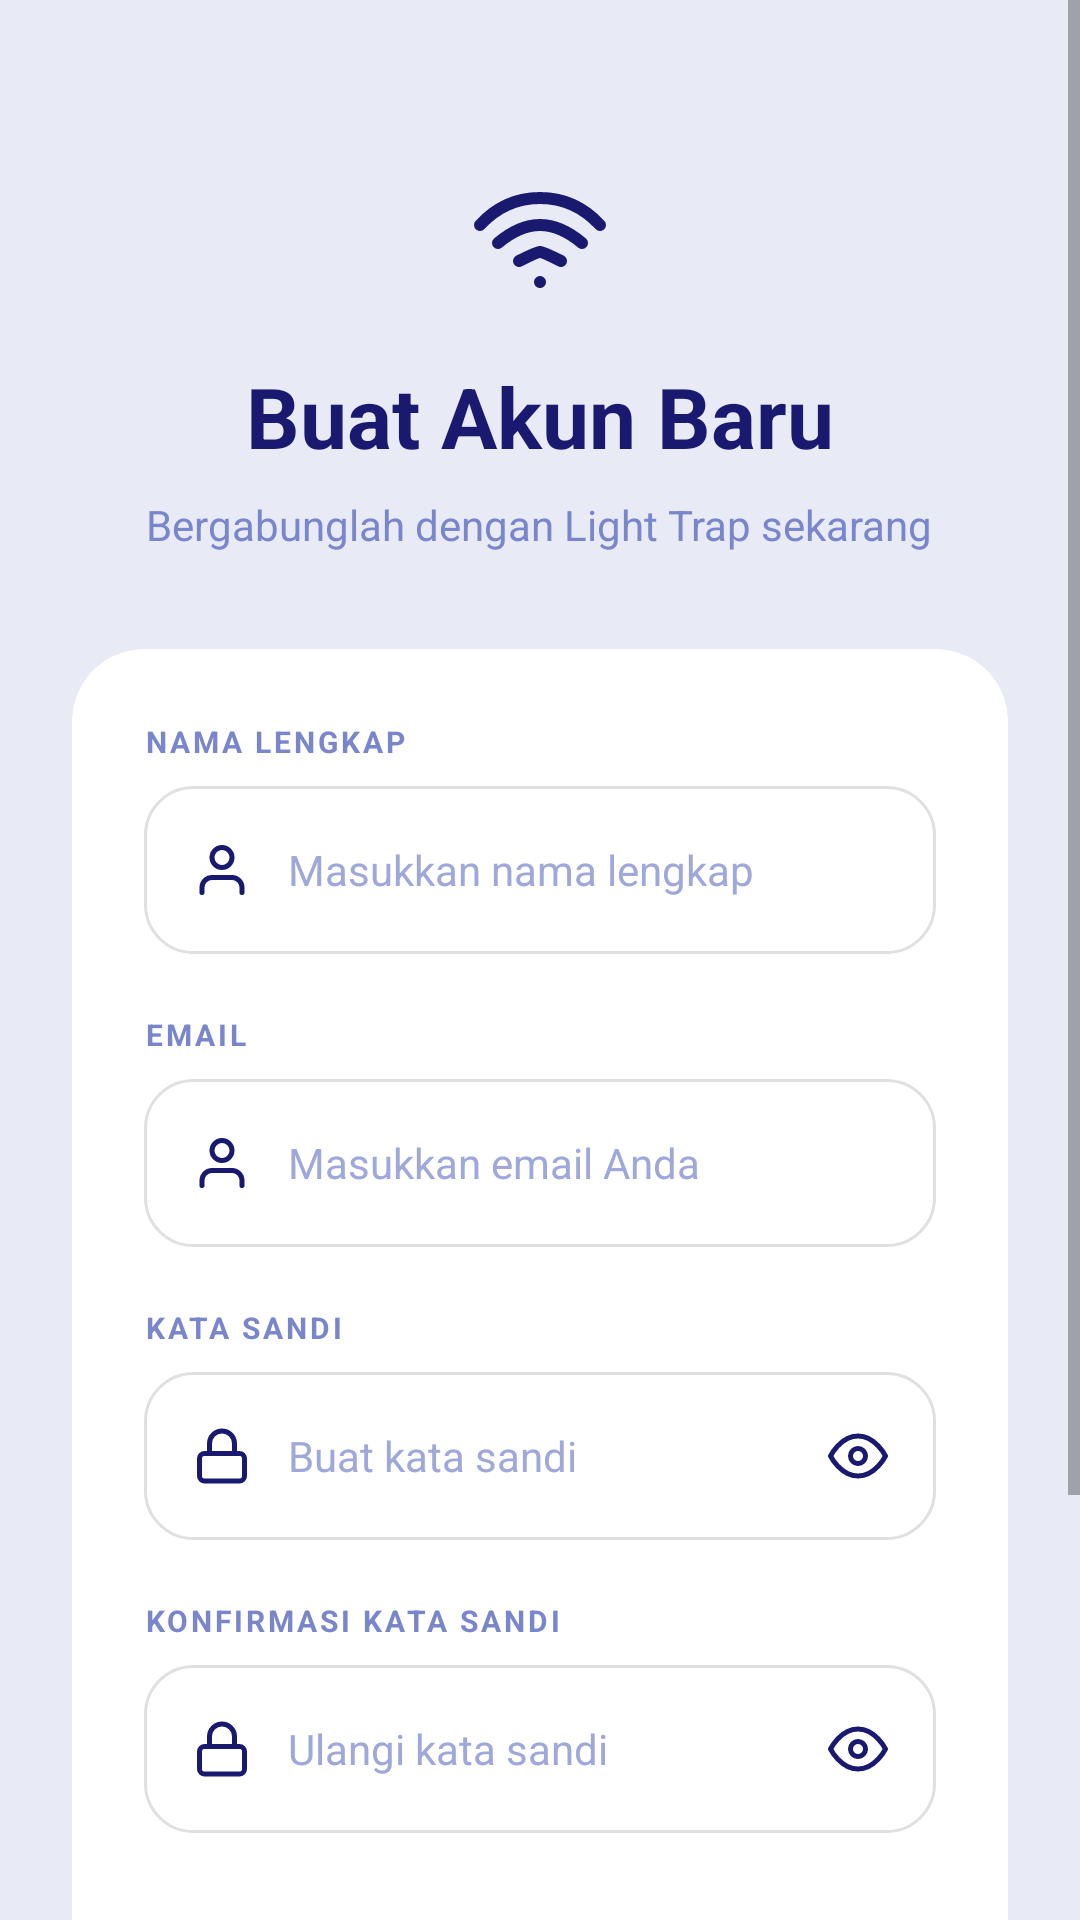

Screen size 1080 x 1920. Icon name, then its box in pixels as [left=x1, top=y1, right=x2, bottom=y2]:
eye: [left=828, top=1433, right=888, bottom=1479], [left=828, top=1726, right=888, bottom=1772]
lock: [left=197, top=1428, right=247, bottom=1484], [left=197, top=1721, right=247, bottom=1777]
user: [left=199, top=845, right=245, bottom=895], [left=199, top=1138, right=245, bottom=1188]
wifi custom: [left=474, top=192, right=606, bottom=288]
